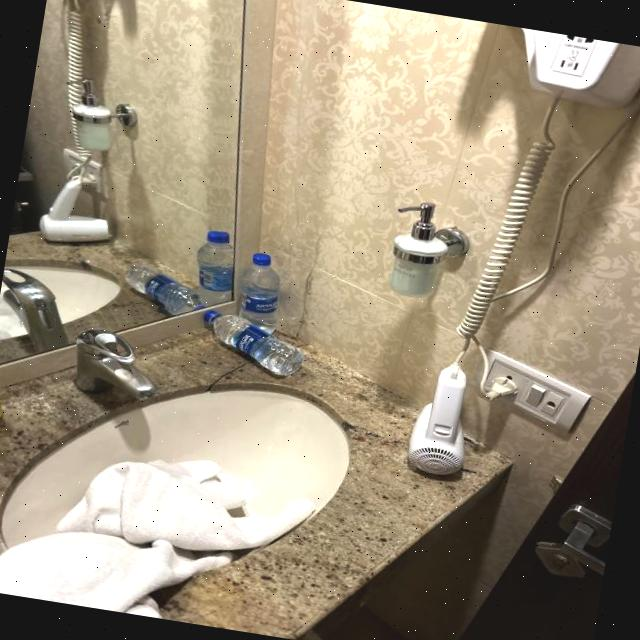disorganized_towel: (0, 452, 316, 617)
mess: (180, 303, 534, 489)
messy_sink: (0, 244, 411, 638)
